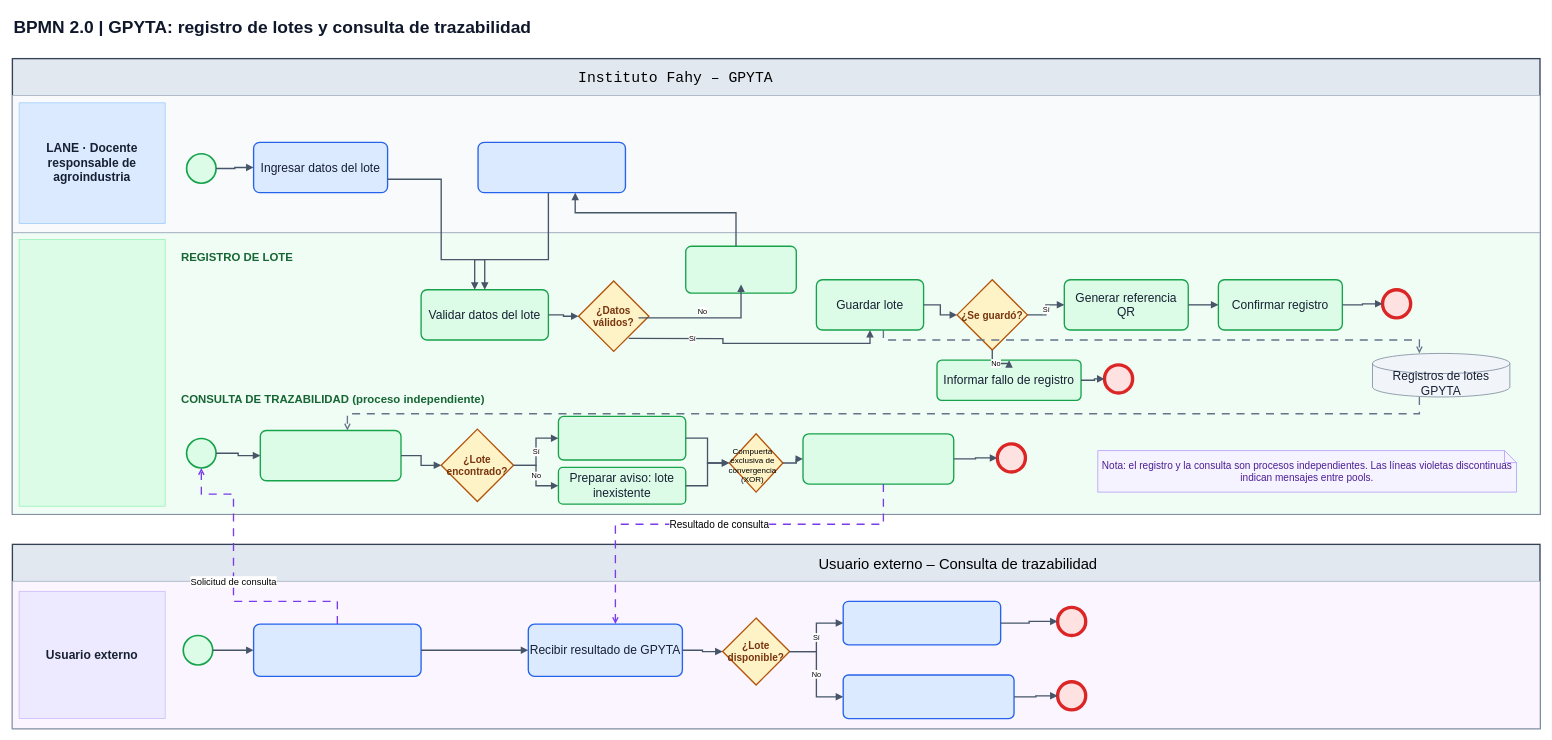
Some shapes in this 1552 by 740 pixel diagram are drawn without their labels. The shapes that lost their labels are listed below. From the top down, each one's centre as x and y in pixels, then its label:
At (x=551, y=167): "Corregir datos del lote".
At (x=741, y=269): "Informar errores".
At (x=91, y=372): "LANE · Sistema GPYTA (automatizado)".
At (x=330, y=455): "Buscar lote por código QR".
At (x=621, y=437): "Preparar datos del lote".
At (x=878, y=458): "Enviar resultado de consulta".
At (x=921, y=622): "Visualizar datos del lote".
At (x=337, y=650): "Escanear QR y solicitar consulta".
At (x=928, y=696): "Visualizar aviso de lote no encontrado".
